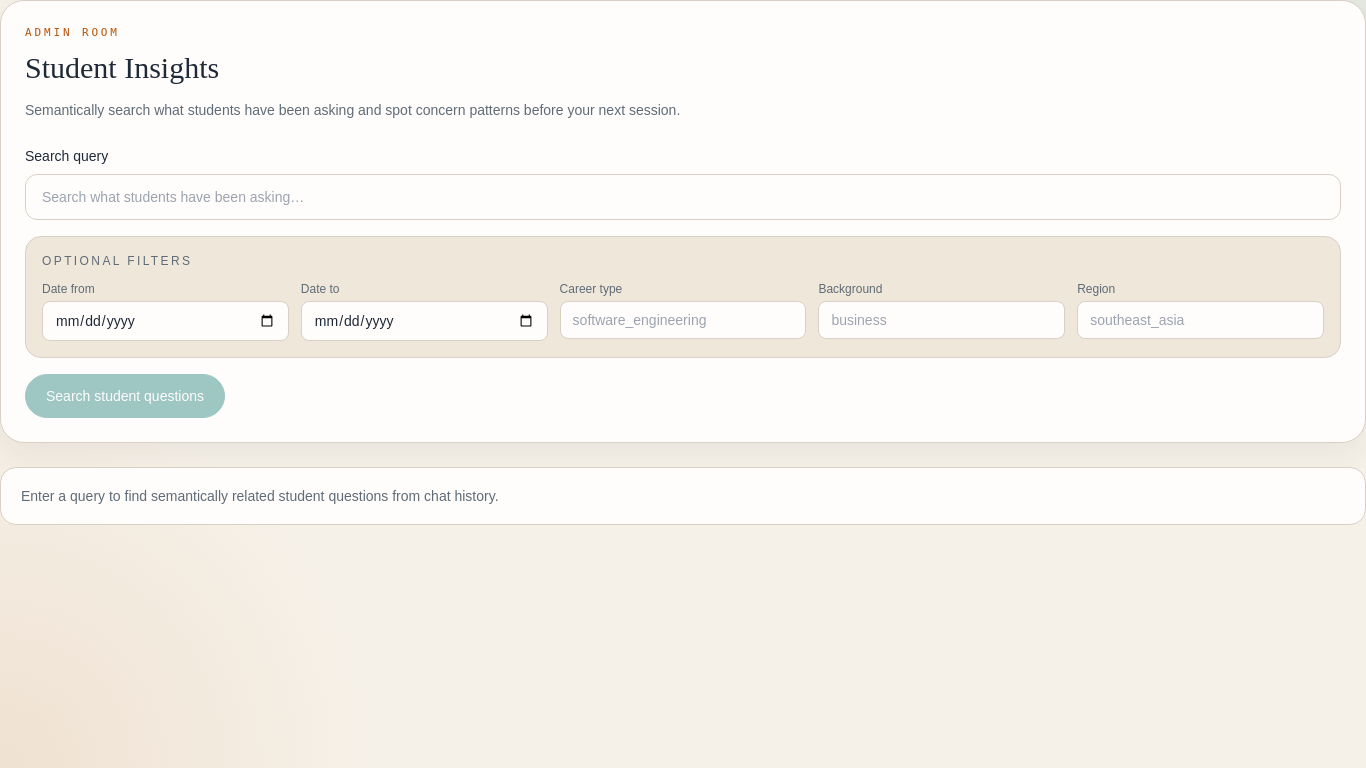
Test: StudentInsightsTab › disables unsupported background and region filters based on capability flags
The width and height of the screenshot is (1366, 768).
Type "interview prep" into the field labelled "Search query" at (683, 196), box x1=25 y1=174 x2=1341 y2=220
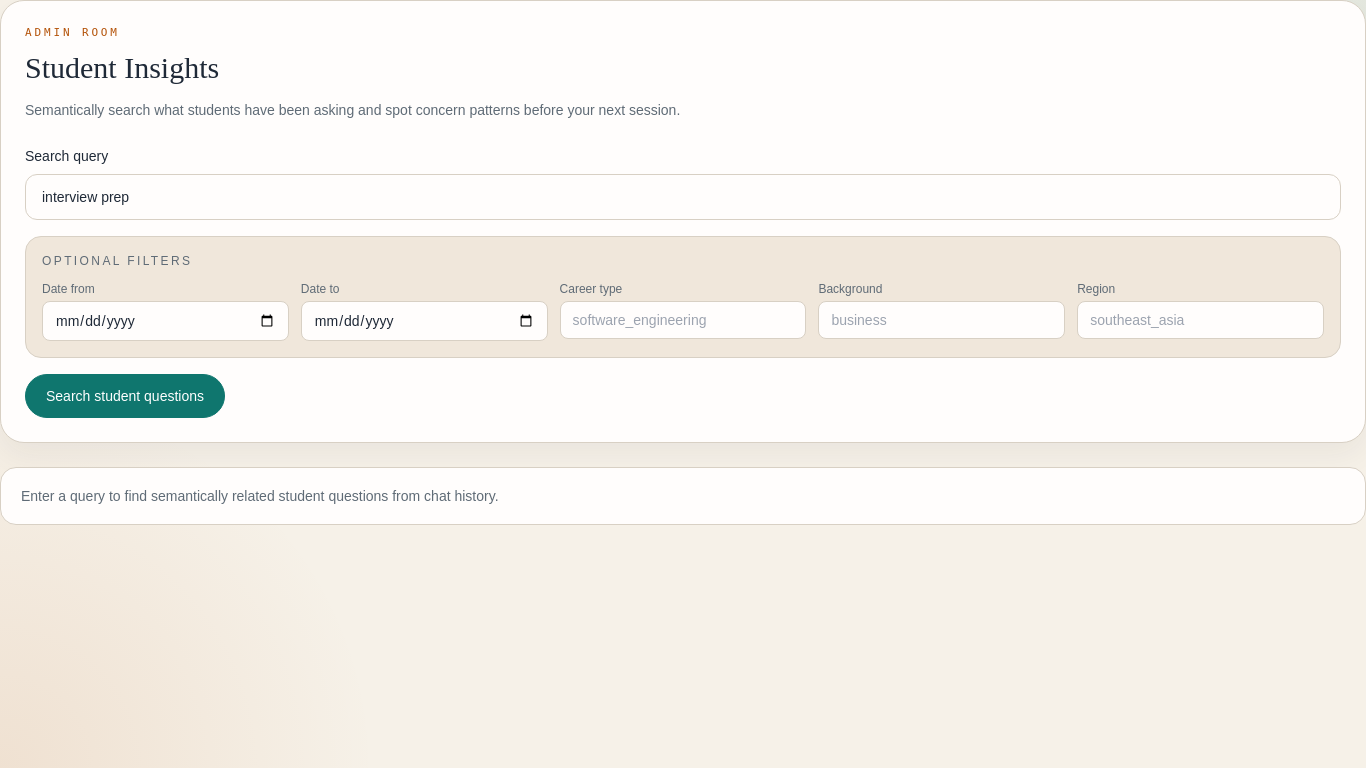
Click the button "Search student questions" at (125, 396), box x1=25 y1=374 x2=225 y2=418
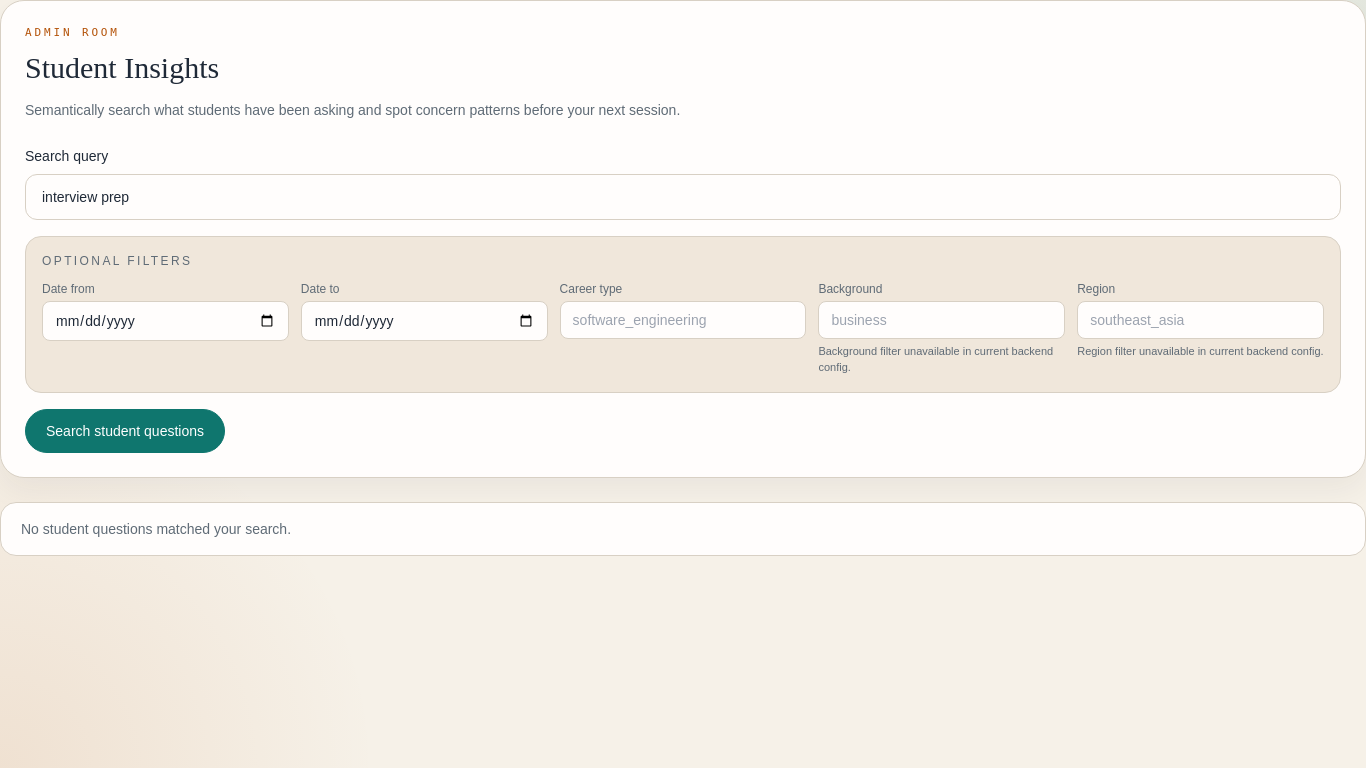
Expected: the field labelled "Background" is disabled, x1=818 y1=300 x2=1065 y2=338
Expected: the text "Background filter unavailable in current backend config." is shown, x1=818 y1=342 x2=1065 y2=376
Expected: the text "Region filter unavailable in current backend config." is shown, x1=1077 y1=342 x2=1324 y2=359
